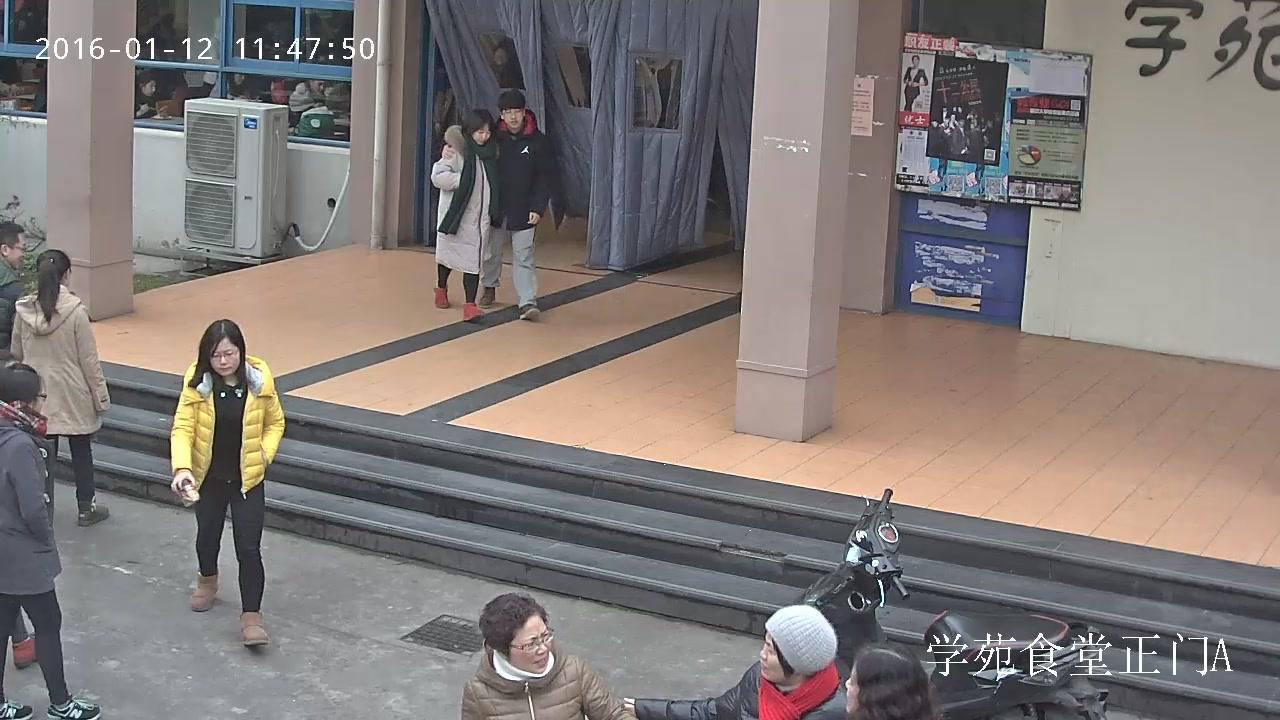person: (167, 320, 284, 647), (0, 360, 100, 720), (9, 248, 108, 526), (622, 605, 847, 720), (458, 591, 636, 720), (479, 89, 555, 320), (431, 109, 503, 321), (0, 220, 27, 374), (288, 82, 335, 137), (903, 55, 927, 110), (135, 72, 159, 118)
